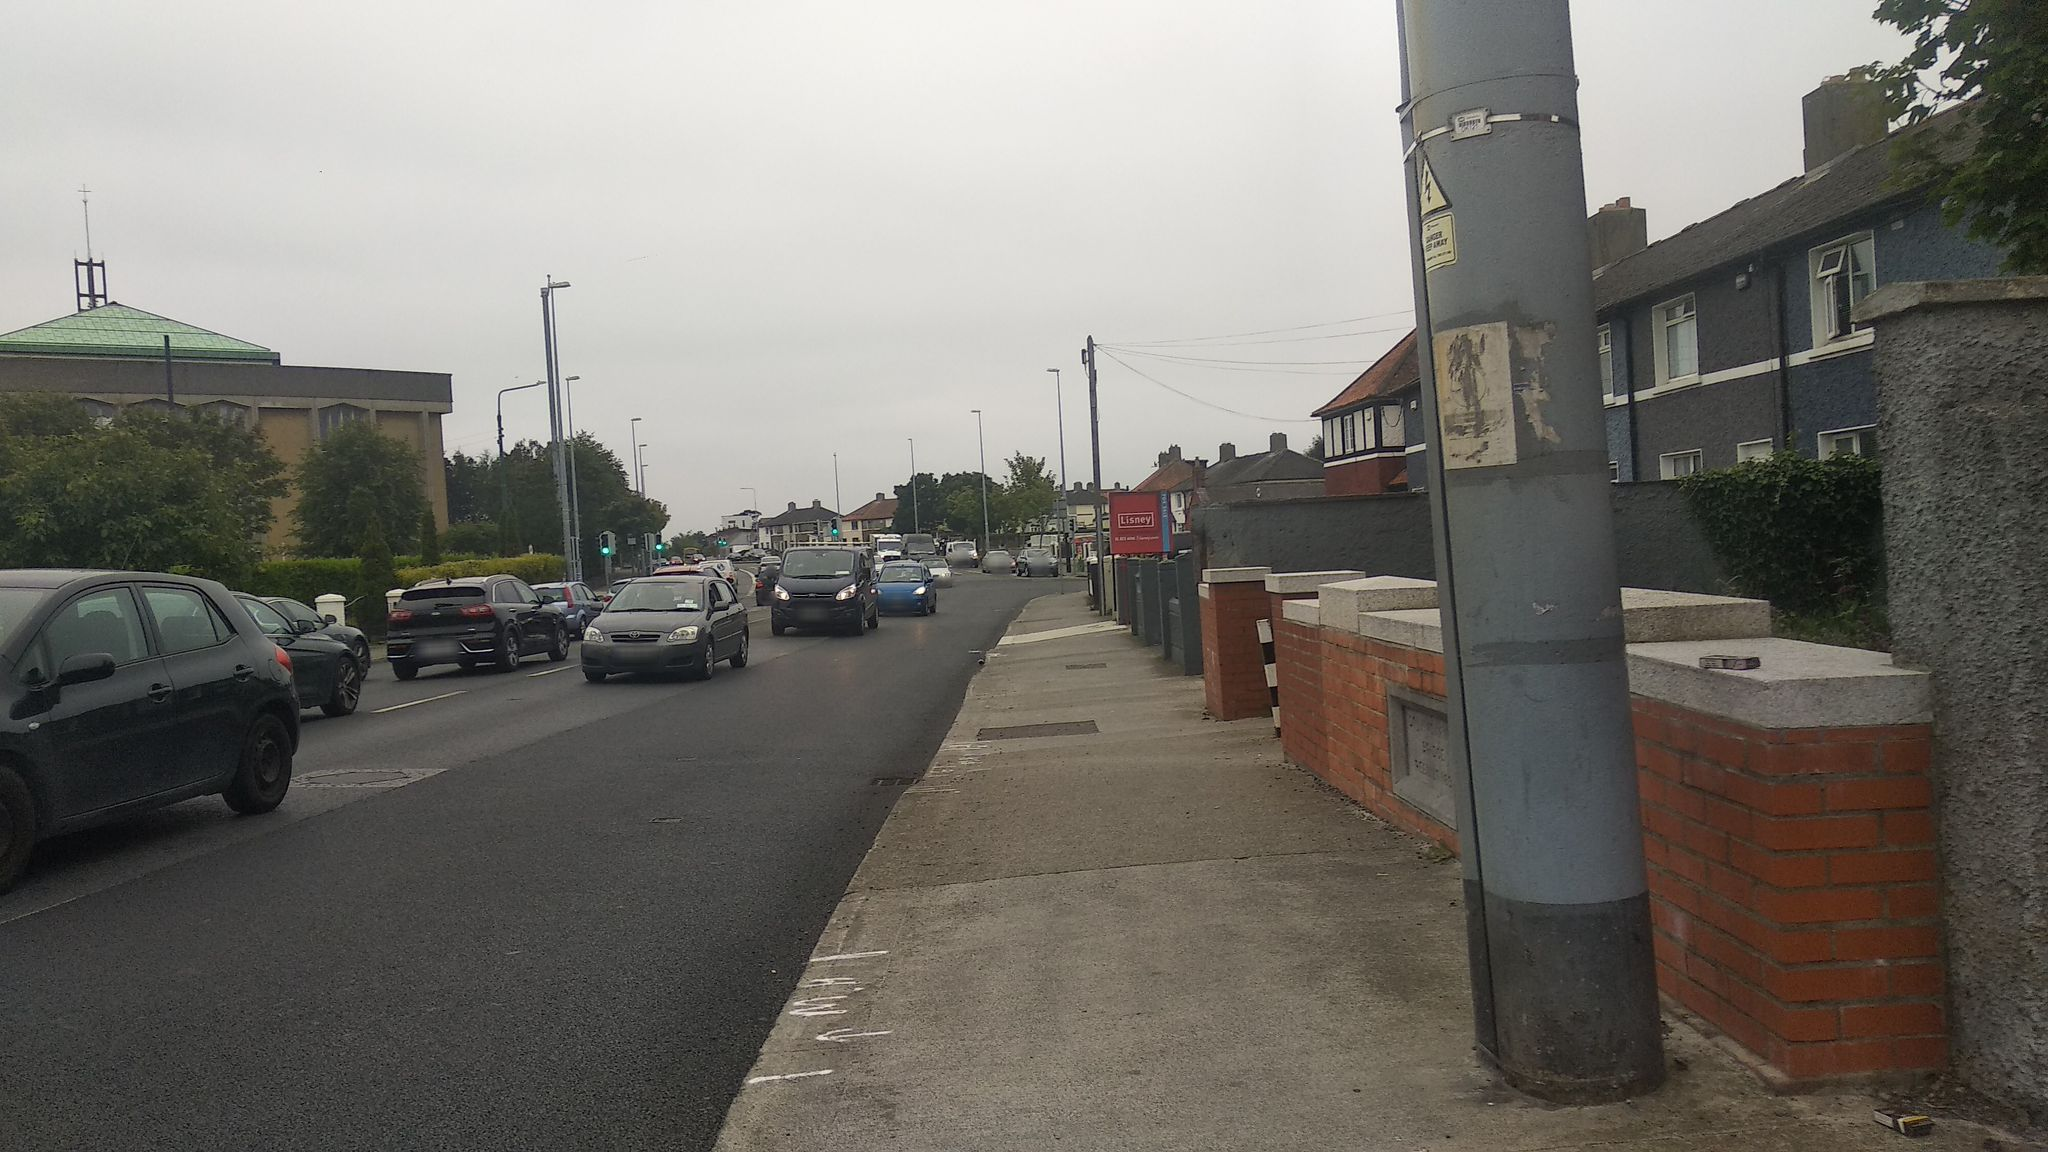property sign: (1096, 478, 1177, 565)
